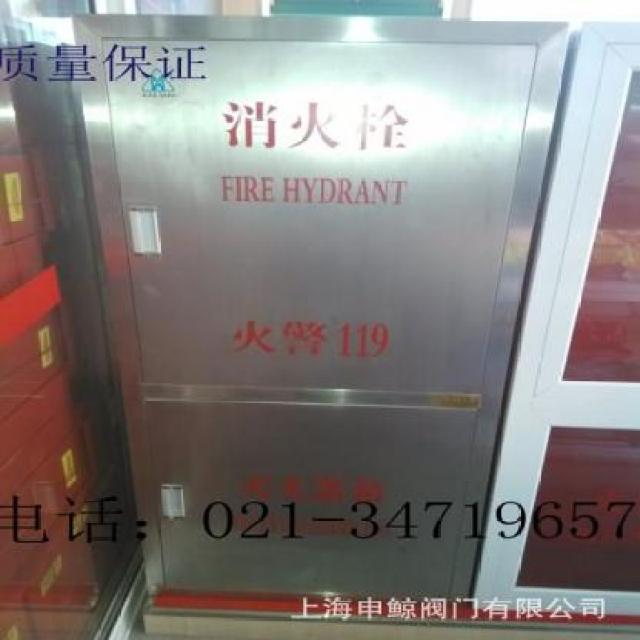firehydrant: (6, 9, 576, 612), (467, 17, 640, 623)
